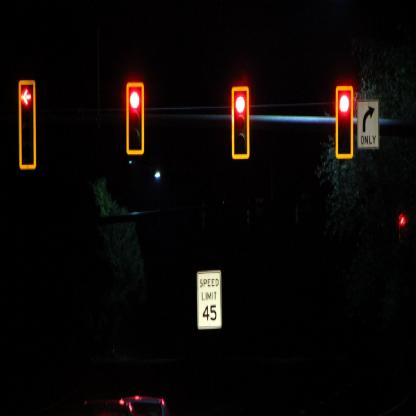left-red: (18, 79, 36, 170)
red: (232, 88, 249, 156), (127, 84, 142, 154), (337, 87, 352, 156)
